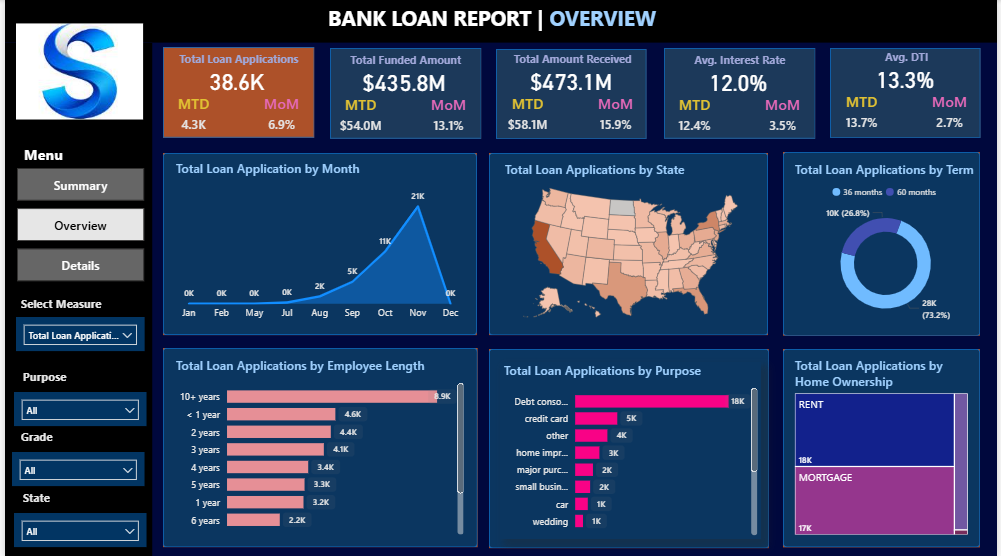

This screenshot's page, from the dashboard's own definition file:
{"tool":"powerbi","page":{"name":"Overview","canvas":[1280,720],"ordinal":1},"visuals":[{"type":"shape","box":[0,55.6,190,664.9],"z":0},{"type":"shape","box":[204.3,448.6,405.7,257.1],"z":0,"group":"g9"},{"type":"shape","box":[624.3,450,361.4,257.1],"z":0,"group":"g10"},{"type":"shape","box":[0,0,1280,55.4],"z":1000},{"type":"barChart","fields":{"Y":["financial_loan.Total Loan Applications"],"Category":["financial_loan.emp_length"]},"box":[215.7,460,381.4,234.3],"z":1000,"group":"g9"},{"type":"barChart","fields":{"Y":["financial_loan.Total Loan Applications"],"Category":["financial_loan.purpose"]},"box":[638.2,467.1,337.1,228.6],"z":1000,"group":"g10"},{"type":"textbox","box":[397.6,0,465.6,55.6],"z":2000},{"type":"group","id":"g1","title":"Group 1","box":[199.8,60.9,198.4,119.1],"z":3000},{"type":"shape","box":[203.4,60.9,195.4,116.9],"z":3000,"group":"g1"},{"type":"shape","box":[1063.9,61.8,194.2,116.2],"z":3000,"group":"g5"},{"type":"shape","box":[418.5,62.4,195.4,116.9],"z":3000,"group":"g2"},{"type":"shape","box":[850.1,62.4,195.4,116.9],"z":3000,"group":"g4"},{"type":"shape","box":[633.8,63.5,194.2,116.2],"z":3000,"group":"g3"},{"type":"group","id":"g2","title":"Group 1","box":[414.9,62.4,199.8,119.1],"z":4000},{"type":"group","id":"g3","title":"Group 1","box":[631.4,60.9,198.4,119.1],"z":5000},{"type":"card","fields":{"Values":["financial_loan.Avg DTI"]},"box":[1061.6,74.7,198.4,53.9],"z":5000,"group":"g5"},{"type":"card","fields":{"Values":["financial_loan.Total Loan Applications"]},"box":[199.8,77.5,198.4,53.9],"z":5000,"group":"g1"},{"type":"card","fields":{"Values":["financial_loan.Total Amount Received"]},"box":[631.4,77.5,198.4,53.9],"z":5000,"group":"g3"},{"type":"card","fields":{"Values":["financial_loan.Total Funded Amount"]},"box":[414.9,79,198.4,53.9],"z":5000,"group":"g2"},{"type":"card","fields":{"Values":["financial_loan.Avg Interest Rate"]},"box":[846.5,79,198.4,53.9],"z":5000,"group":"g4"},{"type":"textbox","box":[1065.2,58.1,195.4,33.5],"z":6000,"group":"g5"},{"type":"textbox","box":[203.4,60.9,195.4,33.5],"z":6000,"group":"g1"},{"type":"textbox","box":[635,60.9,195.4,33.5],"z":6000,"group":"g3"},{"type":"textbox","box":[418.5,62.4,195.4,33.5],"z":6000,"group":"g2"},{"type":"textbox","box":[850.1,62.4,195.4,33.5],"z":6000,"group":"g4"},{"type":"shape","box":[204.1,197,405,235],"z":6000},{"type":"group","id":"g4","title":"Group 1","box":[846.5,62.4,199.8,119.1],"z":7000},{"type":"card","title":"MTD","fields":{"Values":["financial_loan.MTD Avg DTI"]},"box":[1065.9,117.2,79.4,59.5],"z":7000,"group":"g5"},{"type":"card","title":"MTD","fields":{"Values":["financial_loan.MTD Total Loan Applications"]},"box":[204.1,120,79.4,59.5],"z":7000,"group":"g1"},{"type":"card","title":"MTD","fields":{"Values":["financial_loan.MTD Total Amount Received"]},"box":[635.7,120,79.4,59.5],"z":7000,"group":"g3"},{"type":"card","title":"MTD","fields":{"Values":["financial_loan.MTD Total Funded Amount"]},"box":[419.2,121.5,79.4,59.5],"z":7000,"group":"g2"},{"type":"card","title":"MTD","fields":{"Values":["financial_loan.MTD Avg Interest Rate"]},"box":[850.8,121.5,79.4,59.5],"z":7000,"group":"g4"},{"type":"group","id":"g5","title":"Group 1","box":[1061.6,58.1,198.4,120.5],"z":8000},{"type":"card","title":"MoM","fields":{"Values":["financial_loan.MoM Avg DTI"]},"box":[1179.2,117.2,79.4,59.5],"z":8000,"group":"g5"},{"type":"card","title":"MoM","fields":{"Values":["financial_loan.MoM Loan Applications"]},"box":[317.4,120,79.4,59.5],"z":8000,"group":"g1"},{"type":"card","title":"MoM","fields":{"Values":["financial_loan.MoM Amount Received"]},"box":[749,120,79.4,59.5],"z":8000,"group":"g3"},{"type":"card","title":"MoM","fields":{"Values":["financial_loan.MoM Total Funded Amount"]},"box":[532.5,121.5,79.4,59.5],"z":8000,"group":"g2"},{"type":"card","title":"MoM","fields":{"Values":["financial_loan.MoM Avg Interest Rate"]},"box":[964.1,121.5,79.4,59.5],"z":8000,"group":"g4"},{"type":"group","id":"g6","title":"Group 3","box":[11.3,626.5,171.5,78],"z":10000},{"type":"group","id":"g7","title":"Group 3","box":[11.3,470.6,171.5,78],"z":11000},{"type":"group","id":"g8","title":"Group 3","box":[8.5,548.5,171.5,78],"z":12000},{"type":"slicer","fields":{"Values":["Select Measure.Select Measure"]},"box":[14.2,409.6,165.8,43.9],"z":13000},{"type":"textbox","box":[15.6,377,116.2,32.6],"z":14000},{"type":"areaChart","title":"Total Loan Application by Month ","fields":{"Y":["financial_loan.Total Loan Applications"],"Category":["Date-table.Short Month"]},"box":[215.4,206.9,381.3,215.4],"z":15000},{"type":"slicer","title":"State","fields":{"Values":["financial_loan.purpose"]},"box":[11.3,505,171.5,43.9],"z":15000,"group":"g7"},{"type":"slicer","title":"State","fields":{"Values":["financial_loan.grade"]},"box":[8.5,582.9,171.5,43.9],"z":15000,"group":"g8"},{"type":"slicer","title":"State","fields":{"Values":["financial_loan.address_state"]},"box":[11.3,660.9,171.5,43.9],"z":15000,"group":"g6"},{"type":"shape","box":[625,197,360,235.3],"z":16000},{"type":"textbox","box":[17.2,470.6,116.2,32.6],"z":16500,"group":"g7"},{"type":"textbox","box":[14.4,548.5,116.2,32.6],"z":16500,"group":"g8"},{"type":"textbox","box":[17.2,626.5,116.2,32.6],"z":16500,"group":"g6"},{"type":"shapeMap","title":"Total Loan Applications by State","fields":{"Value":["financial_loan.Total Loan Applications"],"Category":["financial_loan.address_state"]},"box":[640,207.1,334.3,215.7],"z":17000},{"type":"shape","box":[1004.3,195.7,254.3,237.1],"z":18000},{"type":"donutChart","title":"Total Loan Applications by Term","fields":{"Y":["financial_loan.Total Loan Applications"],"Category":["financial_loan.term"]},"box":[1014.3,207.1,244.3,215.7],"z":19000},{"type":"group","id":"g9","title":"Group 4","box":[204.3,448.6,405.7,257.1],"z":20000},{"type":"group","id":"g10","title":"Group 4","box":[624.3,450,361.4,257.1],"z":21000},{"type":"shape","box":[1004.3,450,254.3,255.7],"z":22000},{"type":"treemap","fields":{"Values":["financial_loan.Total Loan Applications"],"Group":["financial_loan.home_ownership"]},"box":[1014.3,460,232.9,234.3],"z":23000},{"type":"pageNavigator","box":[15.6,216.9,164.4,148.8],"z":23001},{"type":"textbox","box":[19.8,181.4,116.2,35.4],"z":23003},{"type":"image","box":[14.2,22.7,164.4,137.5],"z":23004}]}

Visuals, with their boxes in screenshot pixels (x1, y1, x2, y2), scaled from the page's 1280x720 canvas onto the 1001x556 screenshot:
shape: [0,43,149,555]
shape: [160,346,477,545]
shape: [488,348,771,546]
shape: [0,0,1000,43]
barChart - financial_loan.Total Loan Applications x financial_loan.emp_length: [169,355,467,536]
barChart - financial_loan.Total Loan Applications x financial_loan.purpose: [499,361,763,537]
textbox: [311,0,675,43]
"Group 1" group: [156,47,311,139]
shape: [159,47,312,137]
shape: [832,48,984,137]
shape: [327,48,480,138]
shape: [665,48,818,138]
shape: [496,49,648,139]
"Group 1" group: [324,48,481,140]
"Group 1" group: [494,47,649,139]
card - financial_loan.Avg DTI: [830,58,985,99]
card - financial_loan.Total Loan Applications: [156,60,311,101]
card - financial_loan.Total Amount Received: [494,60,649,101]
card - financial_loan.Total Funded Amount: [324,61,480,103]
card - financial_loan.Avg Interest Rate: [662,61,817,103]
textbox: [833,45,986,71]
textbox: [159,47,312,73]
textbox: [497,47,649,73]
textbox: [327,48,480,74]
textbox: [665,48,818,74]
shape: [160,152,476,334]
"Group 1" group: [662,48,818,140]
"MTD" card: [834,91,896,136]
"MTD" card: [160,93,222,139]
"MTD" card: [497,93,559,139]
"MTD" card: [328,94,390,140]
"MTD" card: [665,94,727,140]
"Group 1" group: [830,45,985,138]
"MoM" card: [922,91,984,136]
"MoM" card: [248,93,310,139]
"MoM" card: [586,93,648,139]
"MoM" card: [416,94,479,140]
"MoM" card: [754,94,816,140]
"Group 3" group: [9,484,143,544]
"Group 3" group: [9,363,143,424]
"Group 3" group: [7,424,141,484]
slicer - Select Measure.Select Measure: [11,316,141,350]
textbox: [12,291,103,316]
"Total Loan Application by Month " areaChart: [168,160,467,326]
"State" slicer: [9,390,143,424]
"State" slicer: [7,450,141,484]
"State" slicer: [9,510,143,544]
shape: [489,152,770,334]
textbox: [13,363,104,389]
textbox: [11,424,102,449]
textbox: [13,484,104,509]
"Total Loan Applications by State" shapeMap: [500,160,762,326]
shape: [785,151,984,334]
"Total Loan Applications by Term" donutChart: [793,160,984,326]
"Group 4" group: [160,346,477,545]
"Group 4" group: [488,348,771,546]
shape: [785,348,984,545]
treemap - financial_loan.Total Loan Applications x financial_loan.home_ownership: [793,355,975,536]
pageNavigator: [12,167,141,282]
textbox: [15,140,106,167]
image: [11,18,140,124]
